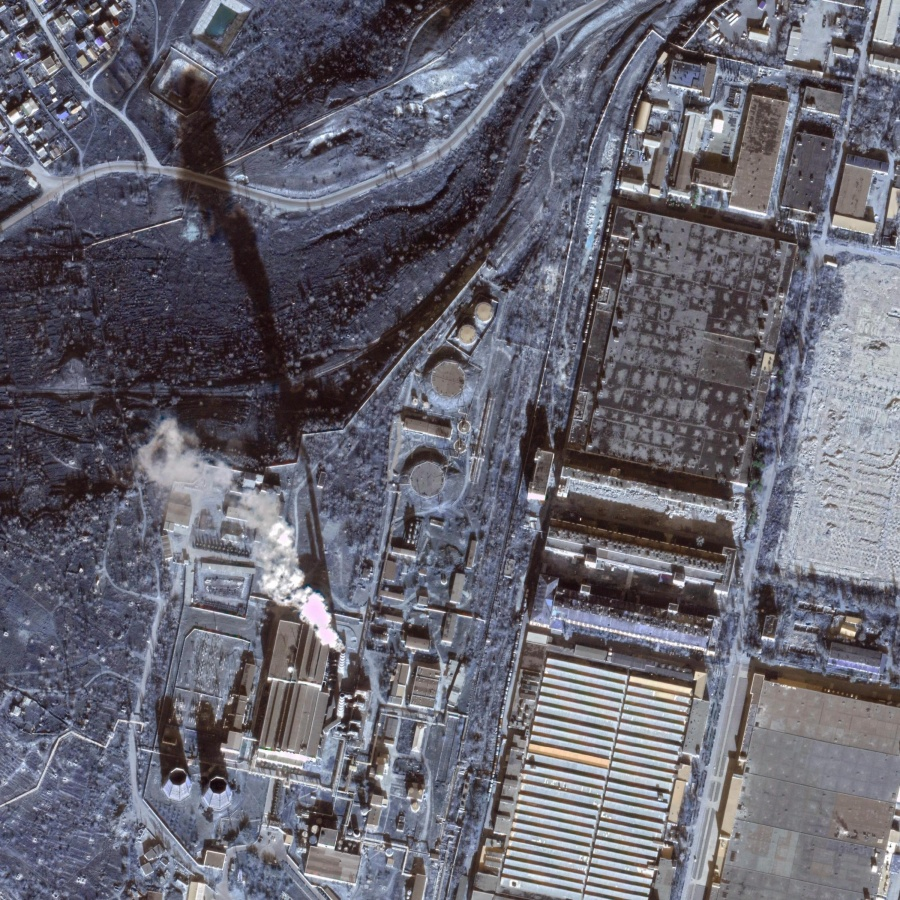PowerPlant: (149, 561, 372, 822)
